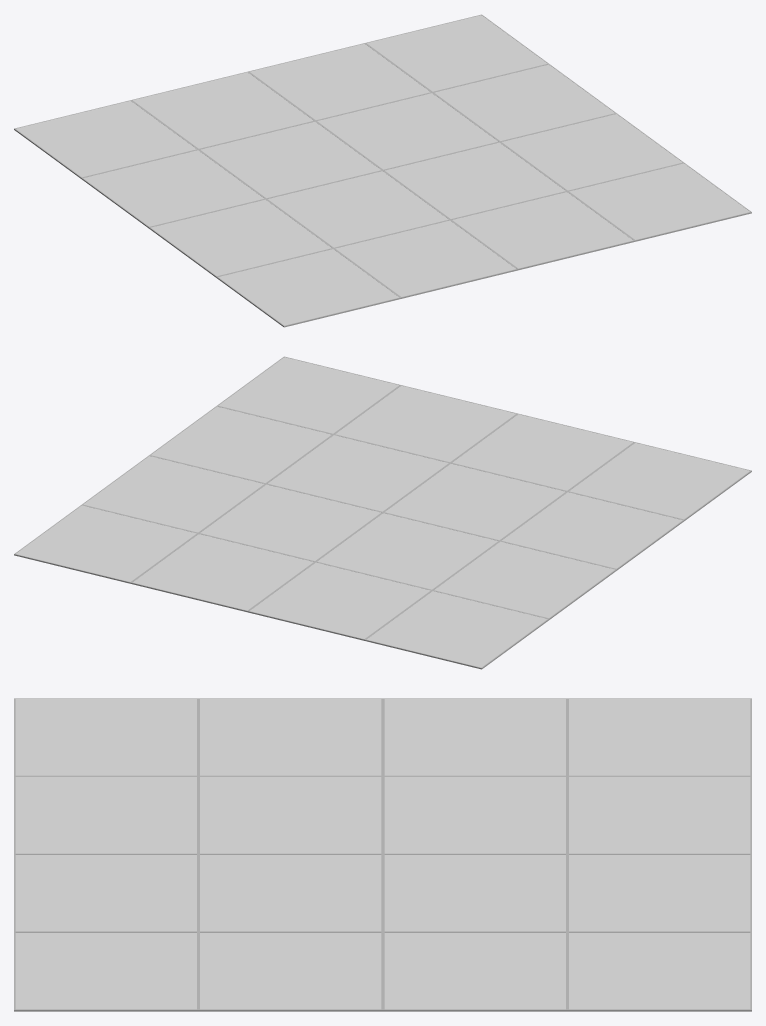
The model's file is Ceiling.gltf.
3 views of the same model, one above another, from view 1: azimuth 30°, elevation 25°; view 2: azimuth 150°, elevation 25°; view 3: azimuth 270°, elevation 25° (orthographic). The views are drawn at different scales.
Visible parts, largest first — view 1: Ceiling; view 2: Ceiling; view 3: Ceiling.
Part boxes in pixels (left/top/right/bottom): Ceiling: left=14, top=14, right=751, bottom=327; Ceiling: left=14, top=356, right=751, bottom=669; Ceiling: left=14, top=698, right=751, bottom=1011.
Bounding box in the file's own units: 384 × 9.63 × 384.
2 materials, 2 textured.
